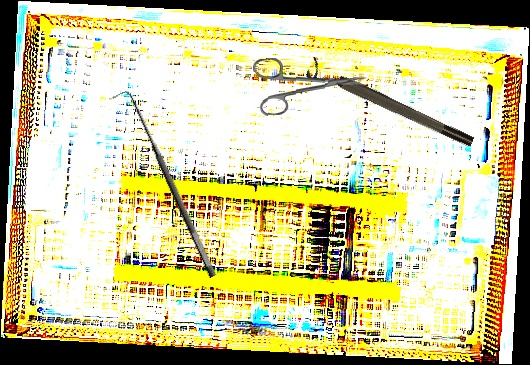Fixation Ring: (304, 56, 476, 157)
Hook Surgical: (111, 86, 220, 285)
Iris Scissors: (253, 55, 368, 116)
